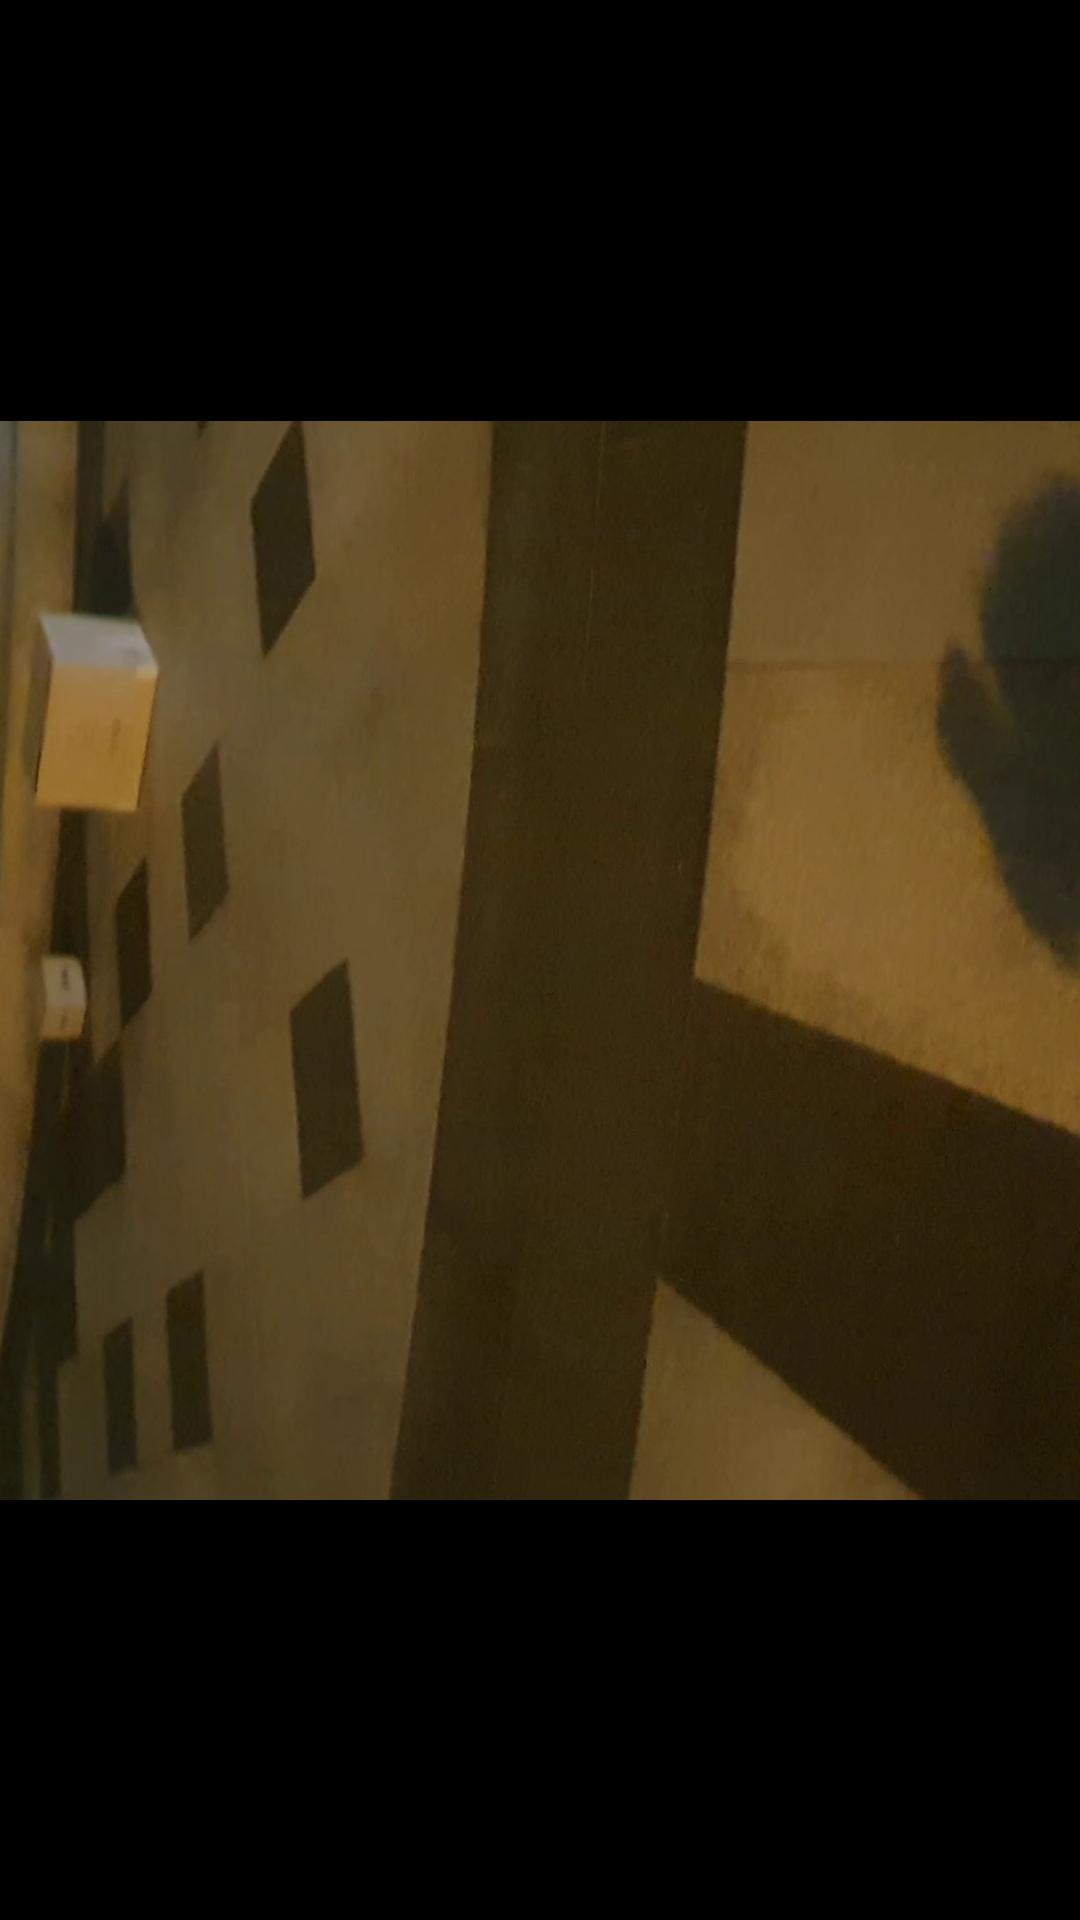Box: (8, 593, 178, 829), (18, 949, 94, 1033)
